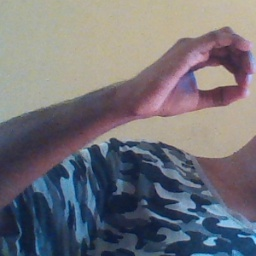O: (138, 21, 256, 125)
